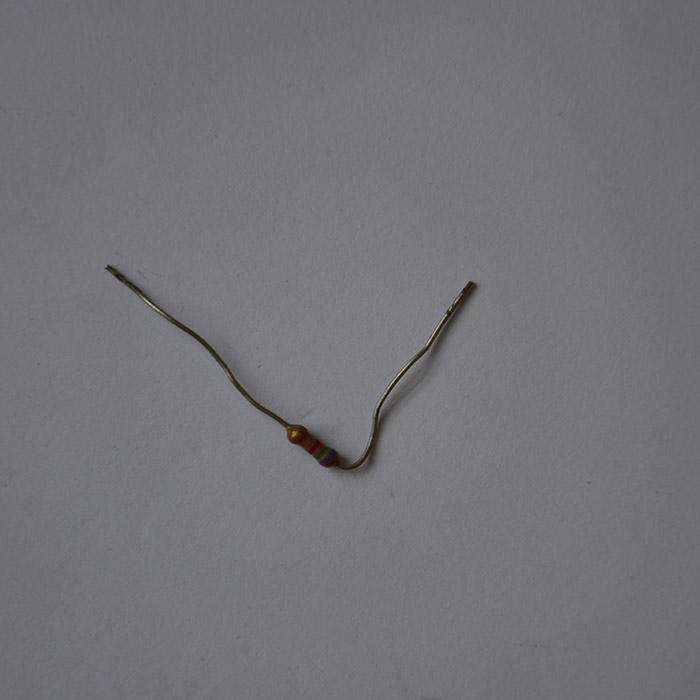resistor: (286, 422, 338, 467)
